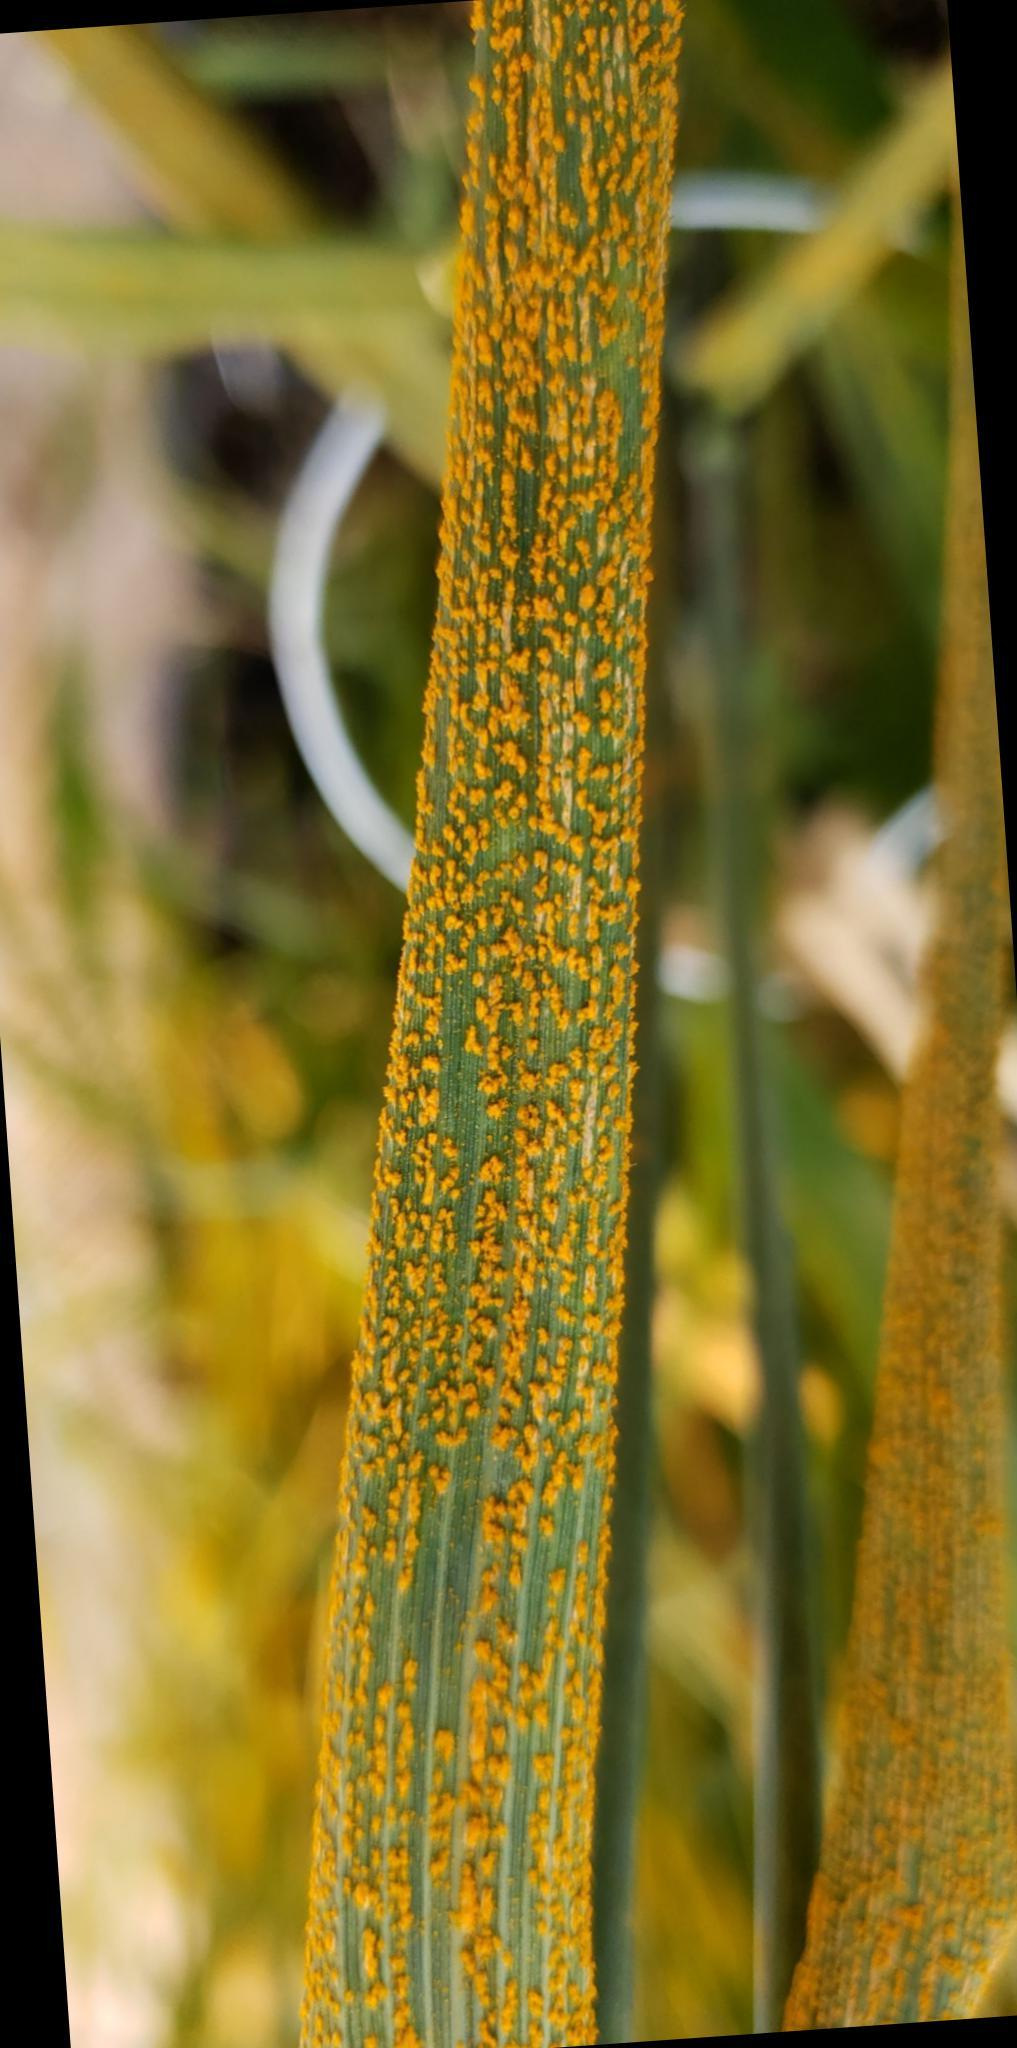Wheat: (369, 1283, 569, 2034), (389, 910, 634, 1259), (900, 1213, 996, 1983), (499, 0, 650, 457), (449, 499, 628, 879)
